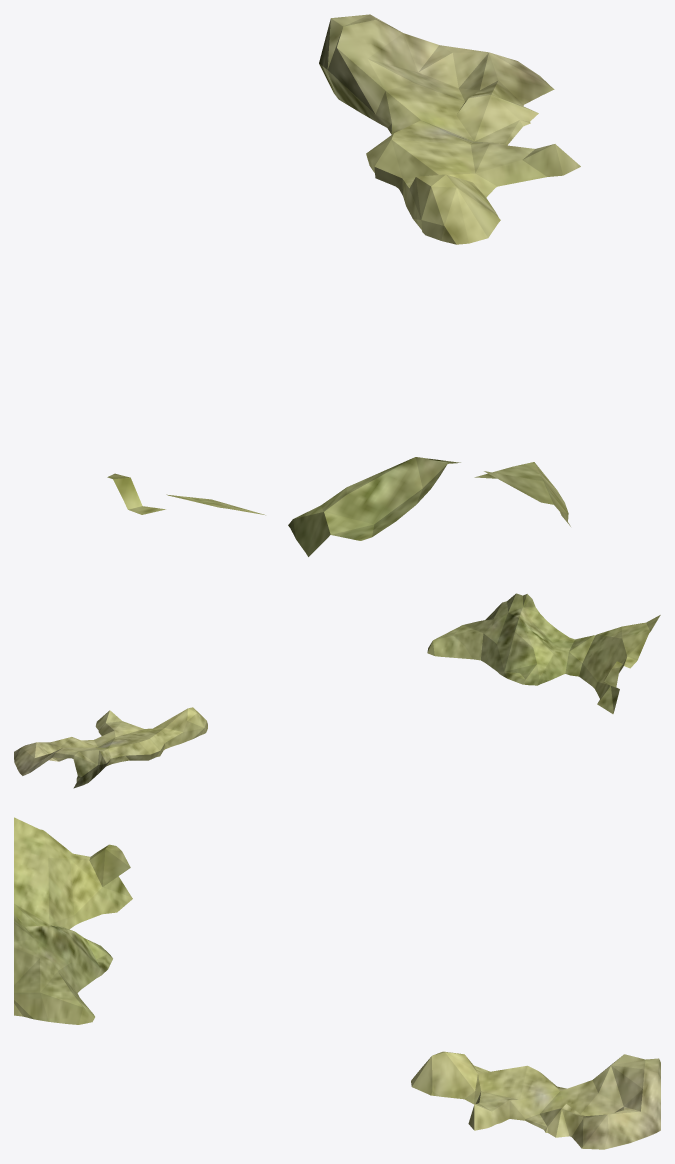
3 views of the same model, one above another, from view 1: azimuth 30°, elevation 25°; view 2: azimuth 150°, elevation 25°; view 3: azimuth 270°, elevation 25° (orthographic). The views are drawn at different scales.
Size of the model in its own units: 5.42 by 0.8192 by 5.9.
Materials: 1 (1 with a texture image).
